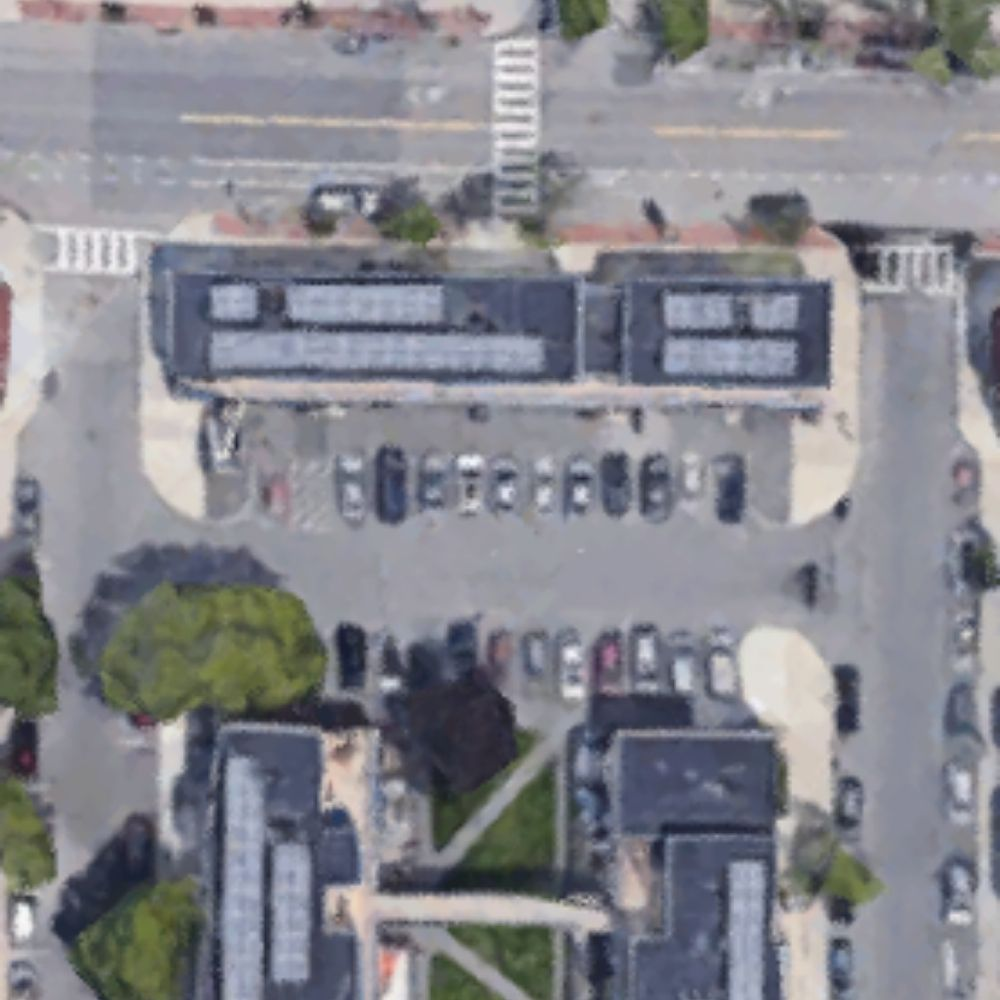parking: (240, 405, 795, 695)
